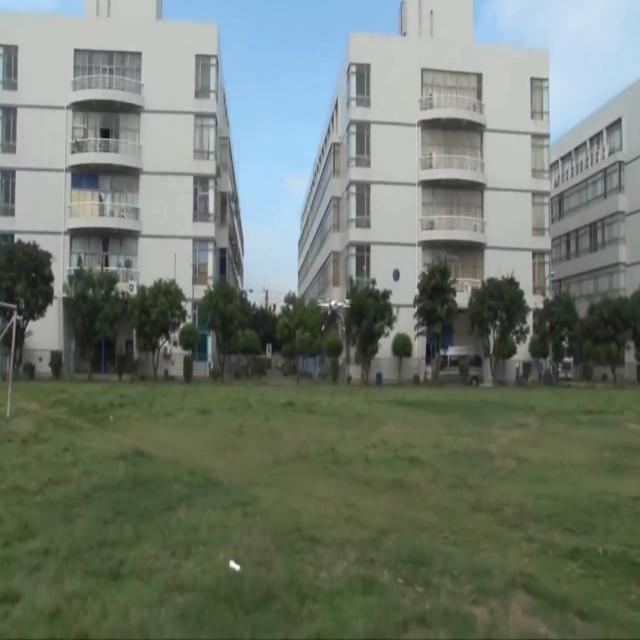drone: (316, 294, 354, 334)
